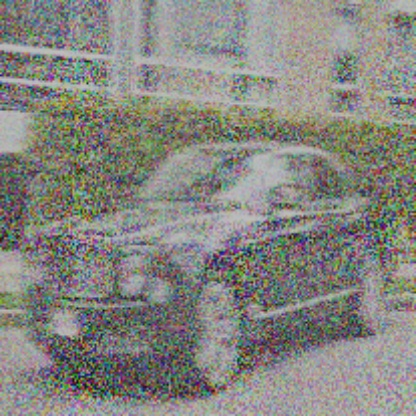Vehicle: (26, 140, 398, 400)
